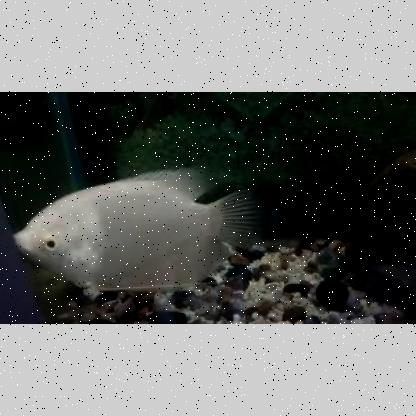gurame: (13, 182, 246, 294)
